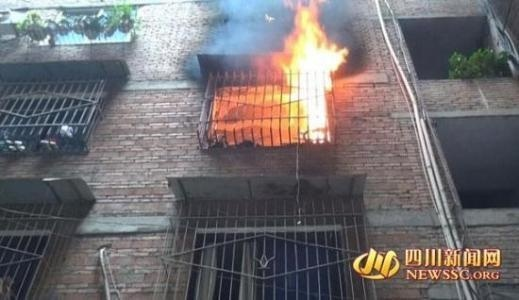fire: (273, 4, 347, 142)
